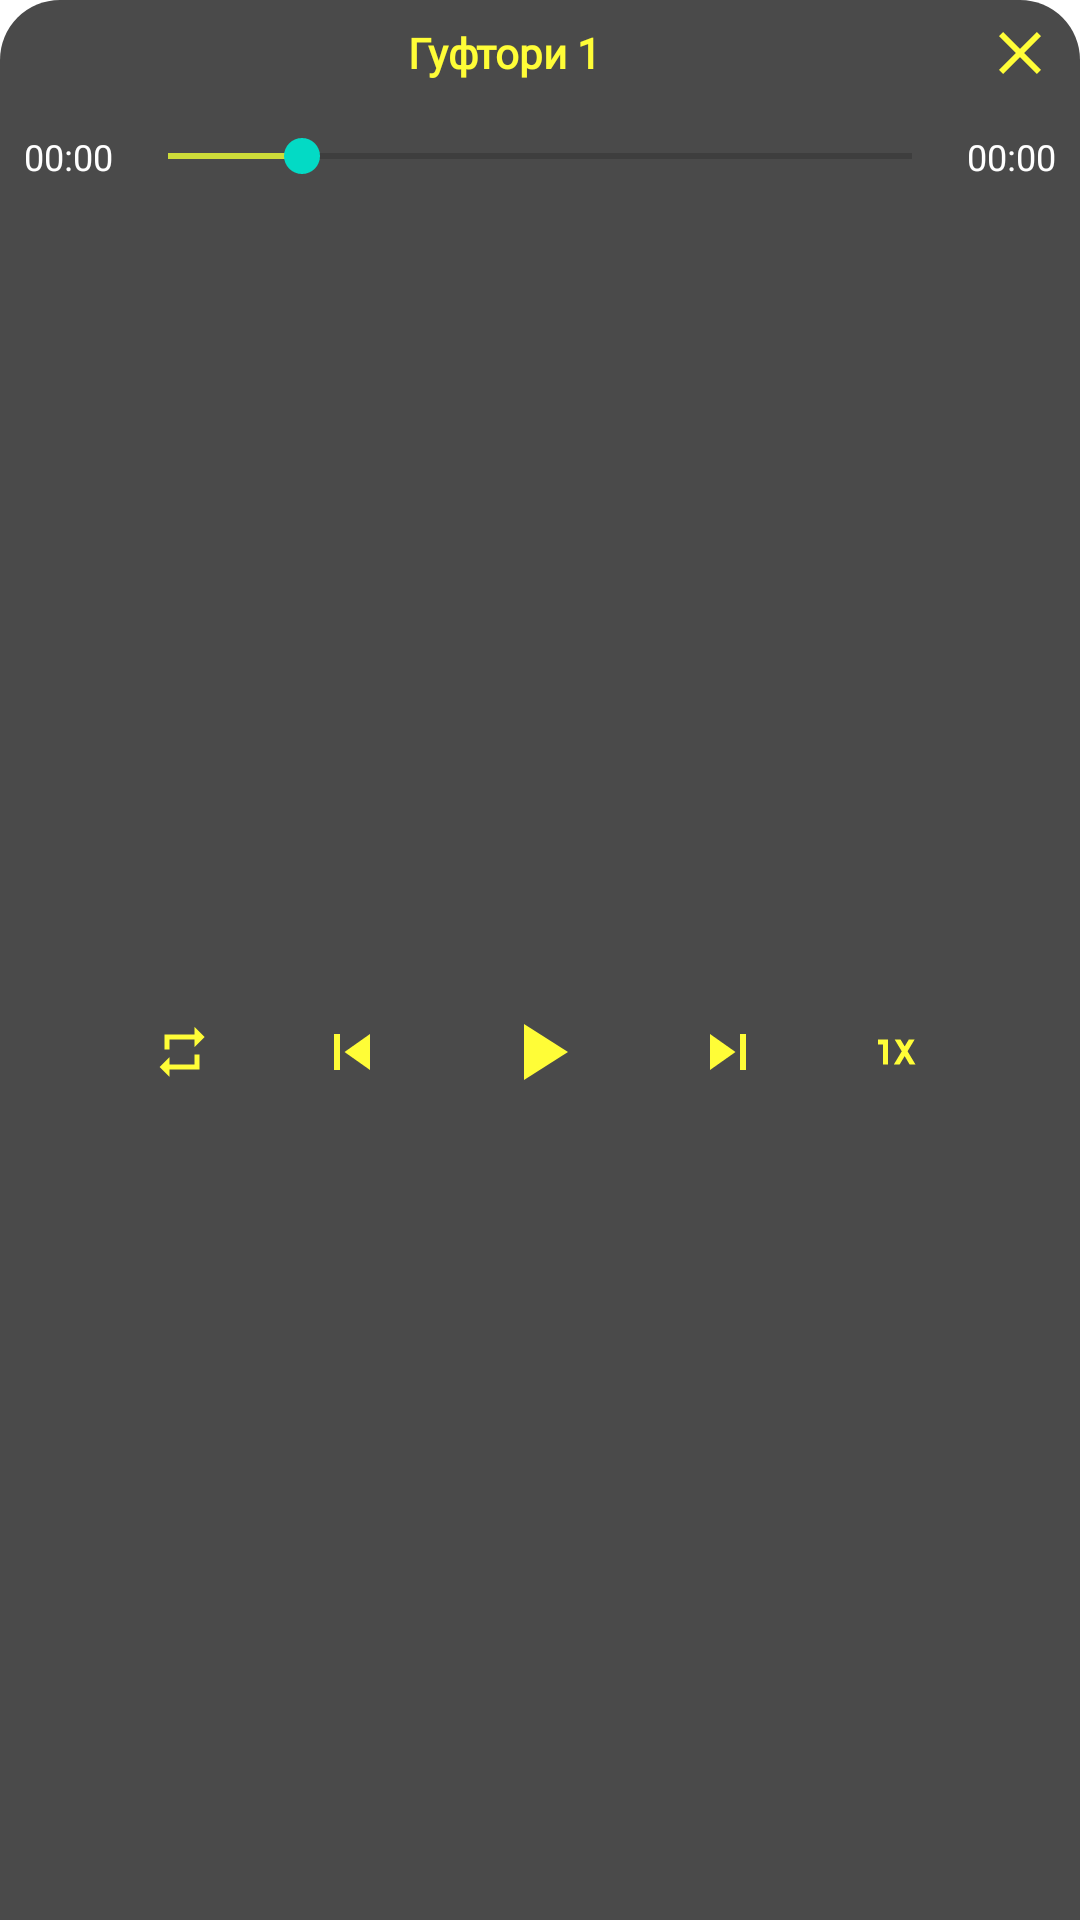

Icons on this 1080px x 1920px Android screen, each with its box as (x1=x1, y1=y1, x2=x2, y2=y2):
close: (x1=999, y1=32, x2=1041, y2=74)
next song: (x1=710, y1=1034, x2=746, y2=1070)
play: (x1=524, y1=1024, x2=568, y2=1080)
previous: (x1=334, y1=1034, x2=370, y2=1070)
repeat: (x1=160, y1=1027, x2=205, y2=1077)
